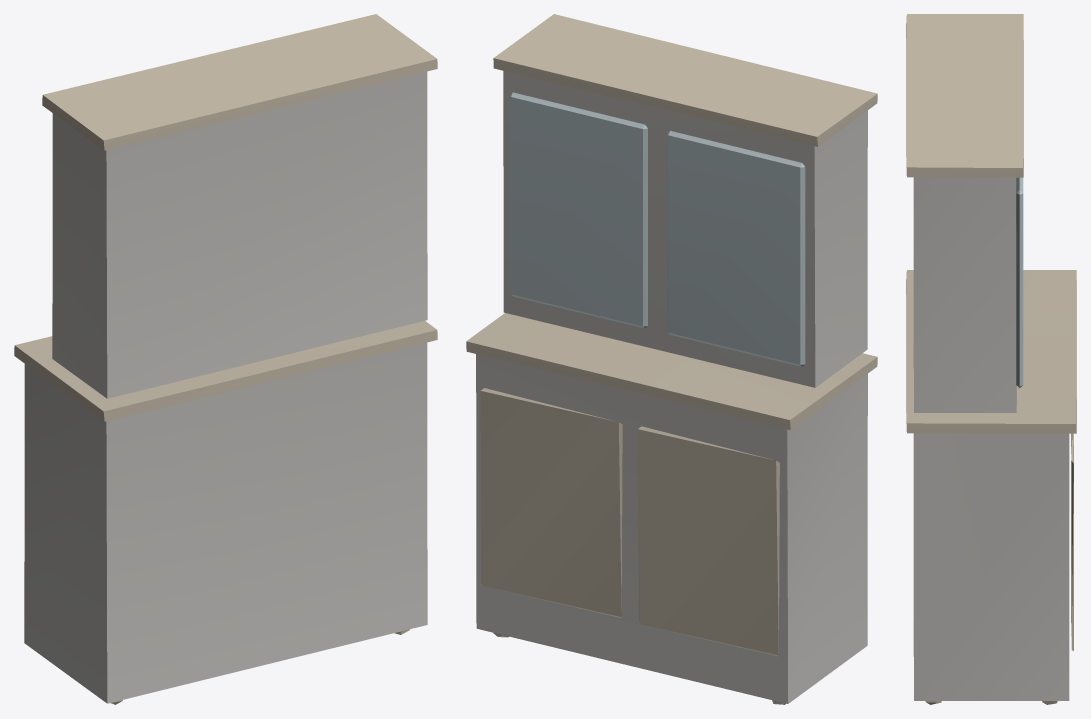
The model's file is furn_cupboard__white_low.glb.
3 views of the same model, side by side, from view 1: azimuth 30°, elevation 25°; view 2: azimuth 150°, elevation 25°; view 3: azimuth 270°, elevation 25° (orthographic). The views are drawn at different scales.
Size of the model in its own units: 1.03 by 1.71 by 0.4817.
